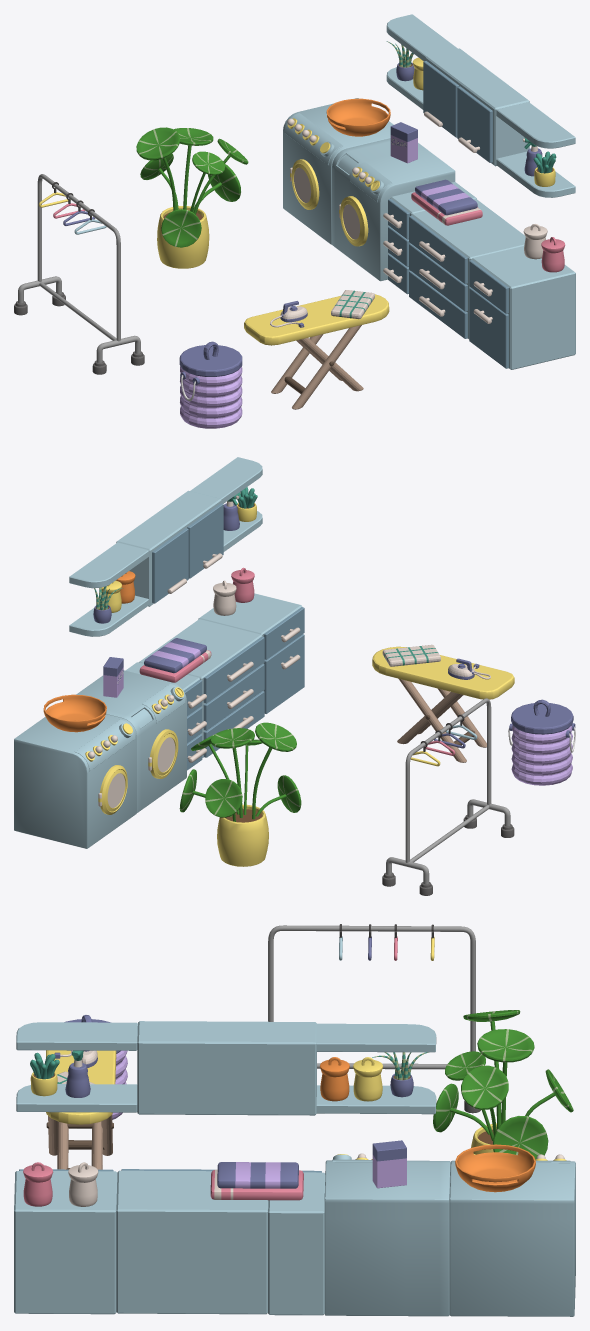
File: Laundry room.fbx
The picture shows the model from 3 angles, top to bottom: view 1: azimuth 30°, elevation 25°; view 2: azimuth 150°, elevation 25°; view 3: azimuth 270°, elevation 25°; orthographic projection. The views are drawn at different scales.
Visible parts, largest first — view 1: laundry room cabinet, gamla, iron tabl, Basket, clothing stand, bowl, clean, towel, jar.001, flower, jar.002, iron (+1 smaller); view 2: laundry room cabinet, gamla, iron tabl, Basket, clothing stand, bowl, towel, clean, jar.002, jar.001, flower, flower.001; view 3: laundry room cabinet, gamla, iron tabl, clothing stand, bowl, clean, jar.003, jar.001, jar, jar.002, flower, flower.001 (+2 smaller).
Boxes of the visible parts, left/top/right/bottom form: laundry room cabinet: left=283, top=14, right=575, bottom=369; gamla: left=136, top=127, right=248, bottom=268; iron tabl: left=244, top=294, right=389, bottom=409; Basket: left=179, top=341, right=242, bottom=428; clothing stand: left=14, top=174, right=144, bottom=374; bowl: left=326, top=98, right=390, bottom=136; clean: left=390, top=122, right=417, bottom=163; towel: left=331, top=290, right=374, bottom=319; jar.001: left=541, top=237, right=565, bottom=272; flower: left=533, top=151, right=556, bottom=186; jar.002: left=523, top=224, right=547, bottom=259; iron: left=270, top=301, right=307, bottom=327; laundry room cabinet: left=14, top=457, right=304, bottom=848; gamla: left=179, top=722, right=301, bottom=866; iron tabl: left=372, top=646, right=514, bottom=762; Basket: left=508, top=699, right=575, bottom=785; clothing stand: left=382, top=698, right=514, bottom=895; bowl: left=43, top=694, right=106, bottom=732; towel: left=382, top=644, right=440, bottom=666; clean: left=103, top=657, right=123, bottom=697; jar.002: left=213, top=580, right=236, bottom=615; jar.001: left=231, top=567, right=254, bottom=602; flower: left=236, top=487, right=257, bottom=521; flower.001: left=93, top=586, right=122, bottom=623; laundry room cabinet: left=14, top=1021, right=575, bottom=1316; gamla: left=433, top=1010, right=573, bottom=1159; iron tabl: left=45, top=1050, right=116, bottom=1169; clothing stand: left=268, top=924, right=480, bottom=1113; bowl: left=455, top=1144, right=535, bottom=1192; clean: left=372, top=1140, right=406, bottom=1188; jar.003: left=353, top=1057, right=382, bottom=1101; jar.001: left=23, top=1162, right=53, bottom=1206; jar: left=319, top=1057, right=349, bottom=1101; jar.002: left=68, top=1162, right=98, bottom=1206; flower: left=30, top=1052, right=59, bottom=1096; flower.001: left=372, top=1052, right=428, bottom=1097.
Size of the model in its own units: 455 by 248 by 458.
